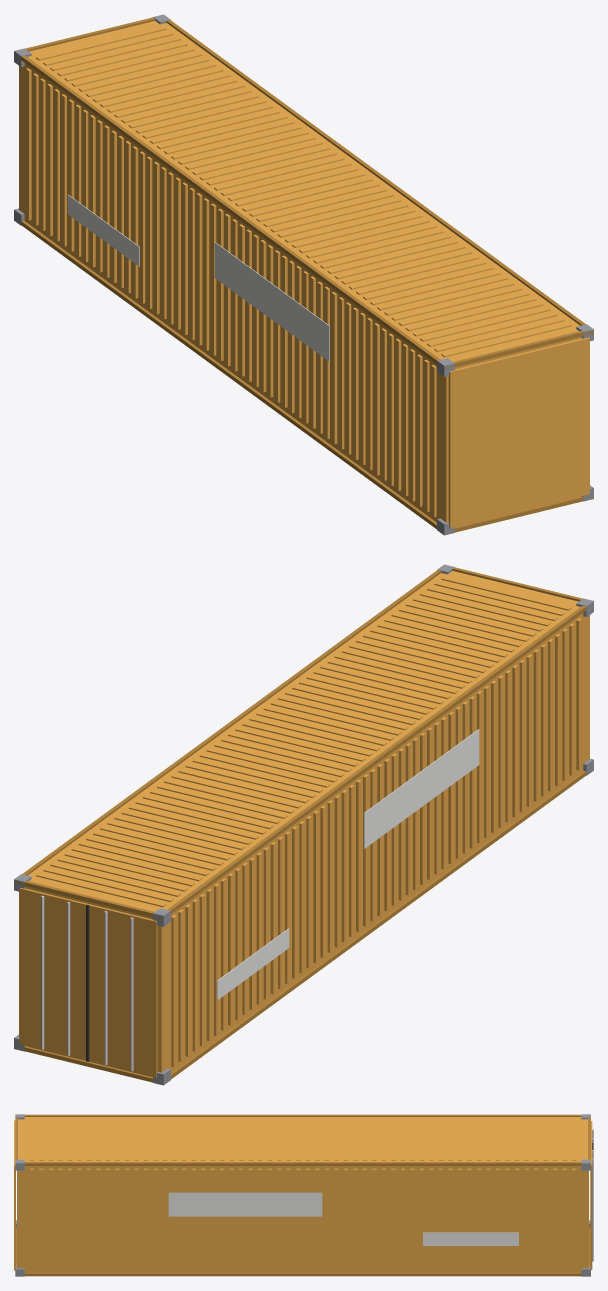
Rendered from container_orange.glb.
3 renders of one model, top to bottom at view 1: azimuth 30°, elevation 25°; view 2: azimuth 150°, elevation 25°; view 3: azimuth 270°, elevation 25°, orthographic. The views are drawn at different scales.
Parts seen in each view (by area): view 1: container_orange; view 2: container_orange; view 3: container_orange.
Boxes of the visible parts, bbox=[...] form: container_orange: bbox=[14, 14, 593, 535]; container_orange: bbox=[14, 564, 593, 1085]; container_orange: bbox=[14, 1114, 593, 1276].
Bounding box in the file's own units: 2.41 × 2.61 × 12.09.
